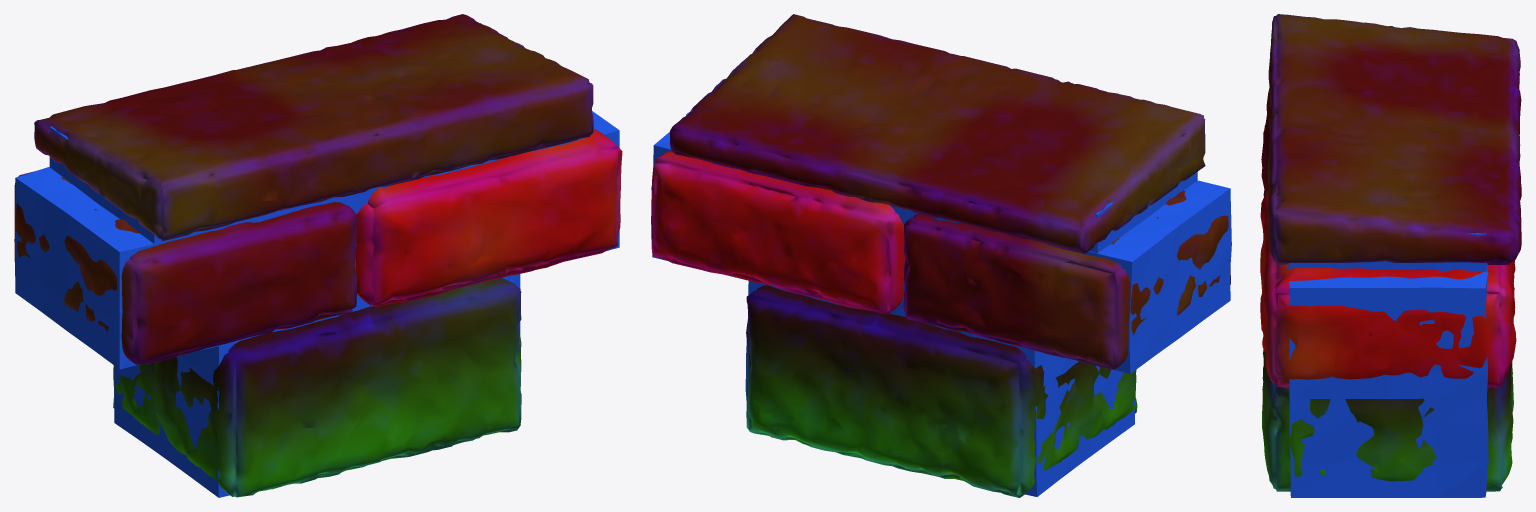
File: SM_CrenelSill488_A.fbx
3 views of the same model, side by side, from view 1: azimuth 30°, elevation 25°; view 2: azimuth 150°, elevation 25°; view 3: azimuth 270°, elevation 25° (orthographic). The views are drawn at different scales.
Parts seen in each view (by area): view 1: SM_CrenelSill488_A; view 2: SM_CrenelSill488_A; view 3: SM_CrenelSill488_A.
Boxes of the visible parts, <box> form: SM_CrenelSill488_A: <box>14,14,622,497</box>; SM_CrenelSill488_A: <box>651,14,1231,497</box>; SM_CrenelSill488_A: <box>1260,14,1521,497</box>.
Size of the model in its own units: 118 by 75.06 by 55.6.
